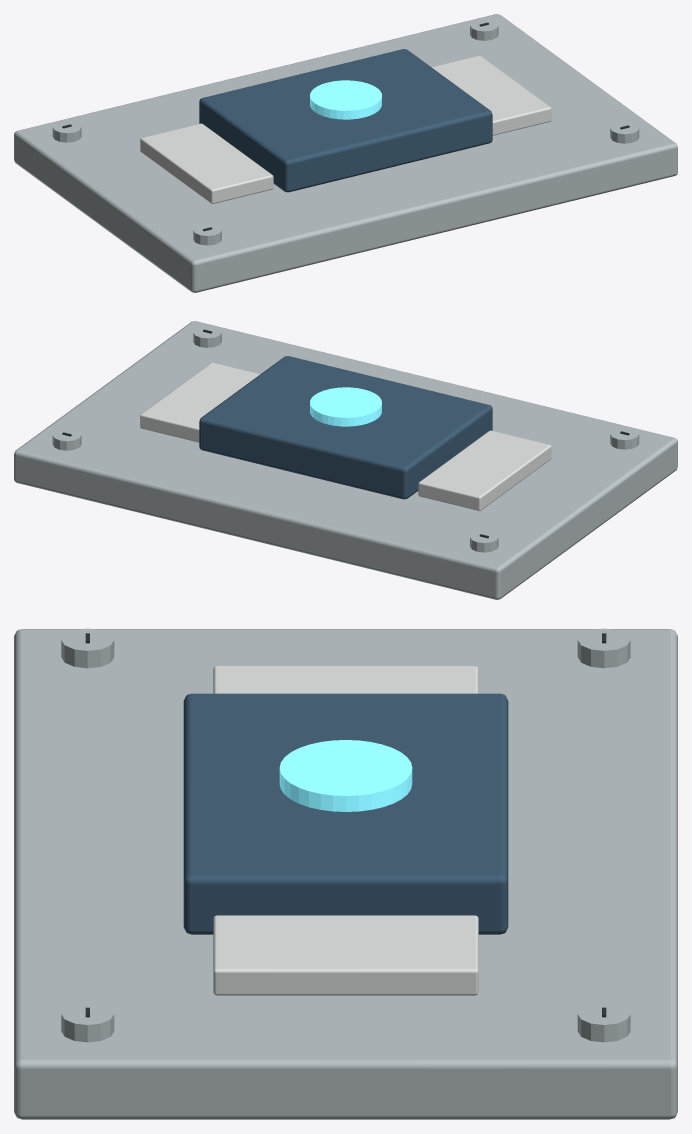
The model's file is container-inspection-and-customs-yard-container-inspec-69685f44__29296.glb.
The picture shows the model from 3 angles, top to bottom: view 1: azimuth 30°, elevation 25°; view 2: azimuth 150°, elevation 25°; view 3: azimuth 270°, elevation 25°; orthographic projection. The views are drawn at different scales.
Visible parts, largest first — view 1: container-inspection-and-customs-yard-underbody-camera-plate (×4); view 2: container-inspection-and-customs-yard-underbody-camera-plate (×4); view 3: container-inspection-and-customs-yard-underbody-camera-plate (×4).
Part boxes in pixels (x1,y1,x2,y2): container-inspection-and-customs-yard-underbody-camera-plate (×4): (14,14,677,292); container-inspection-and-customs-yard-underbody-camera-plate (×4): (14,321,677,599); container-inspection-and-customs-yard-underbody-camera-plate (×4): (14,628,677,1119).
Bounding box in the file's own units: 0.7 × 0.102 × 0.45.
